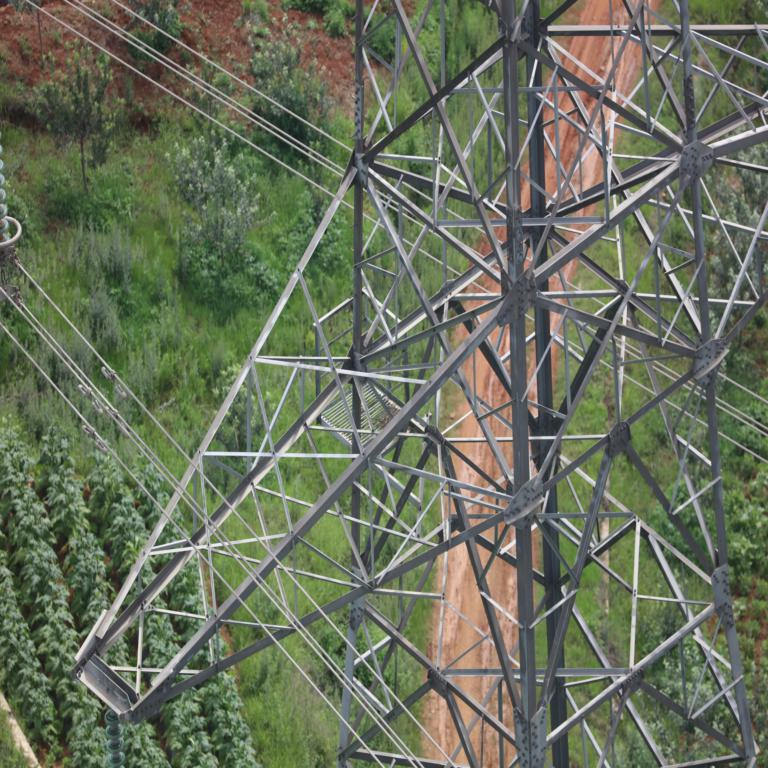nest: (374, 410, 394, 425)
